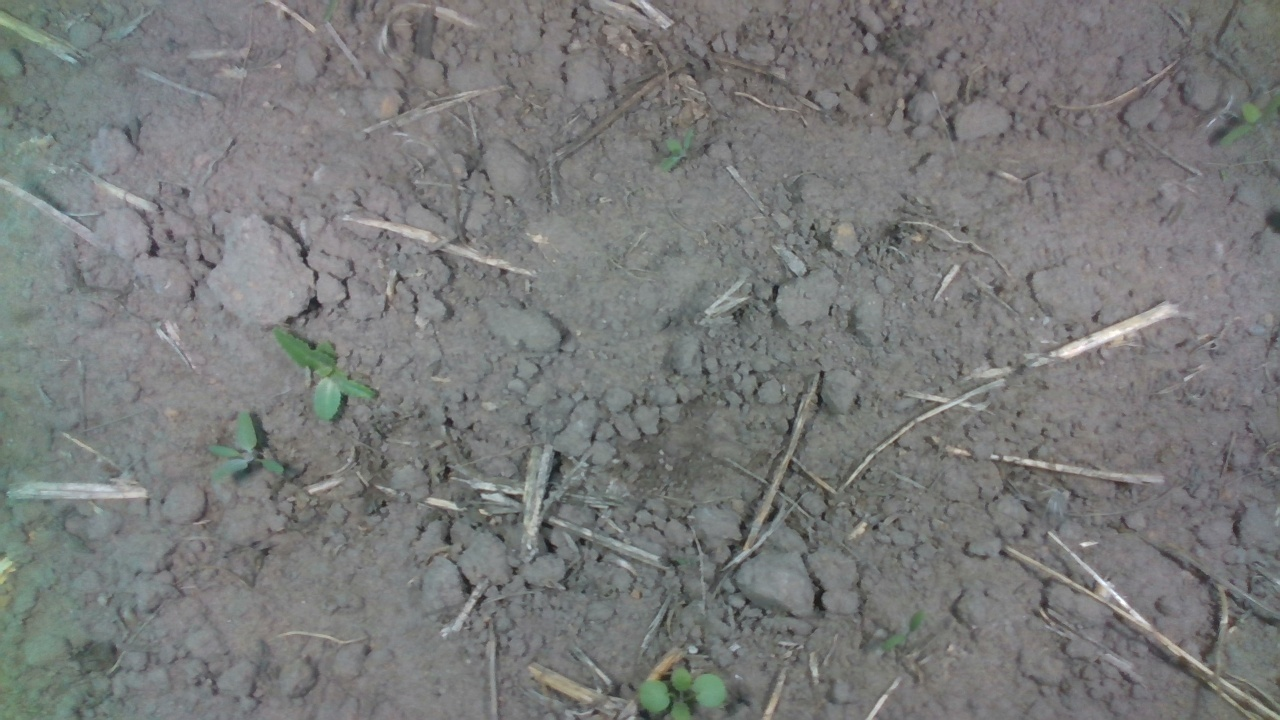weed: (271, 326, 379, 420), (204, 408, 286, 485), (879, 605, 925, 651), (657, 127, 695, 174)
